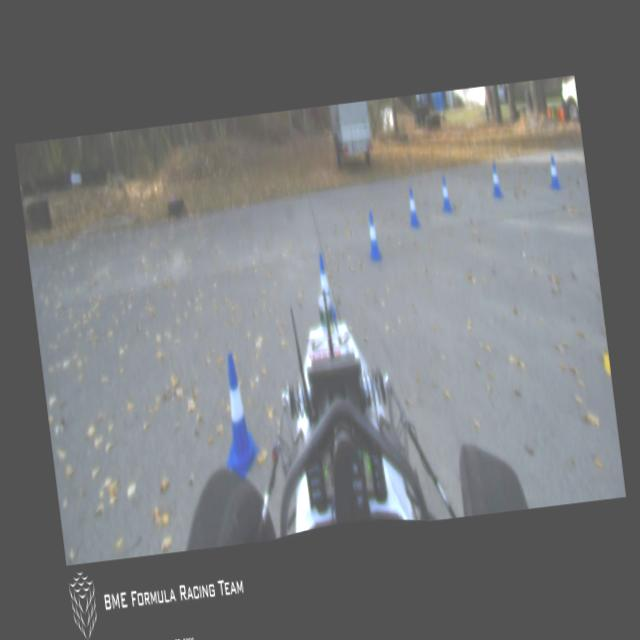blue_cone: (212, 349, 262, 478), (318, 252, 337, 322), (363, 210, 382, 262), (404, 188, 420, 225), (437, 178, 452, 212), (546, 154, 560, 190), (488, 162, 502, 196)
